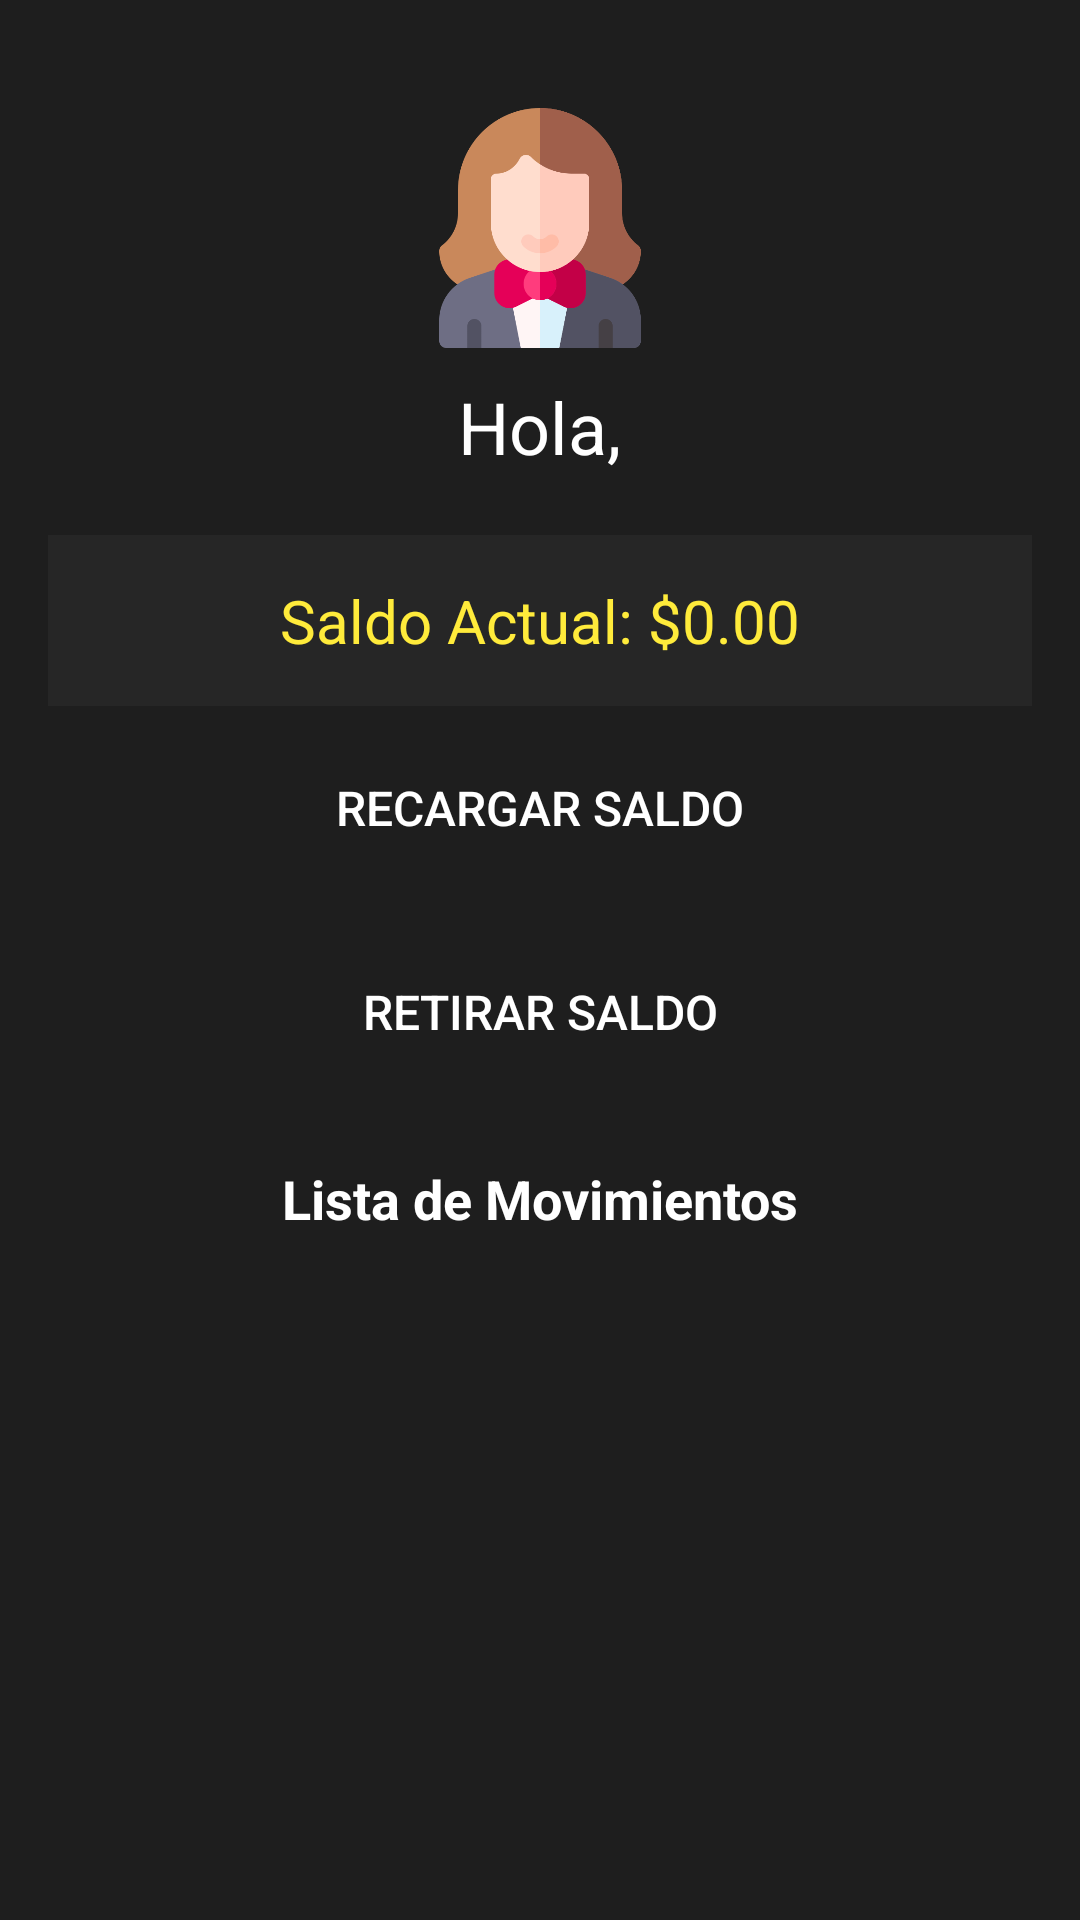

Named icons in this screenshot (1080 × 1920) and their bounding boxes, detection(x1, y1, x2, y2):
dealer: detection(439, 108, 641, 348)
